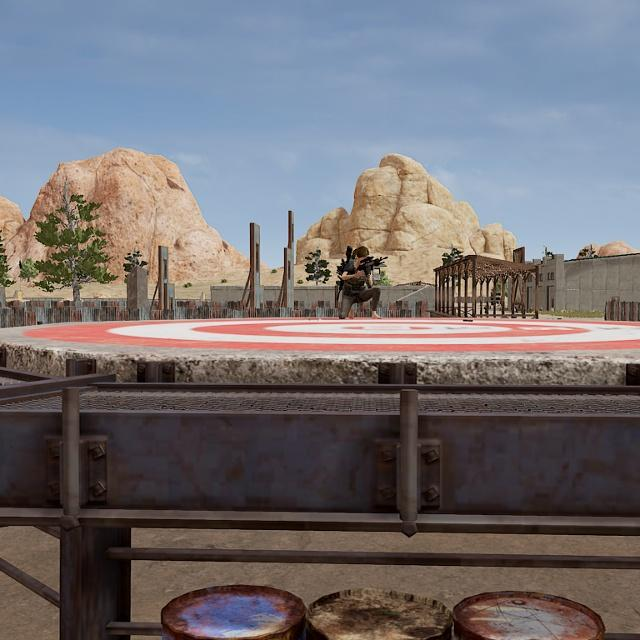head: (353, 245, 371, 267)
people: (336, 245, 385, 319)
